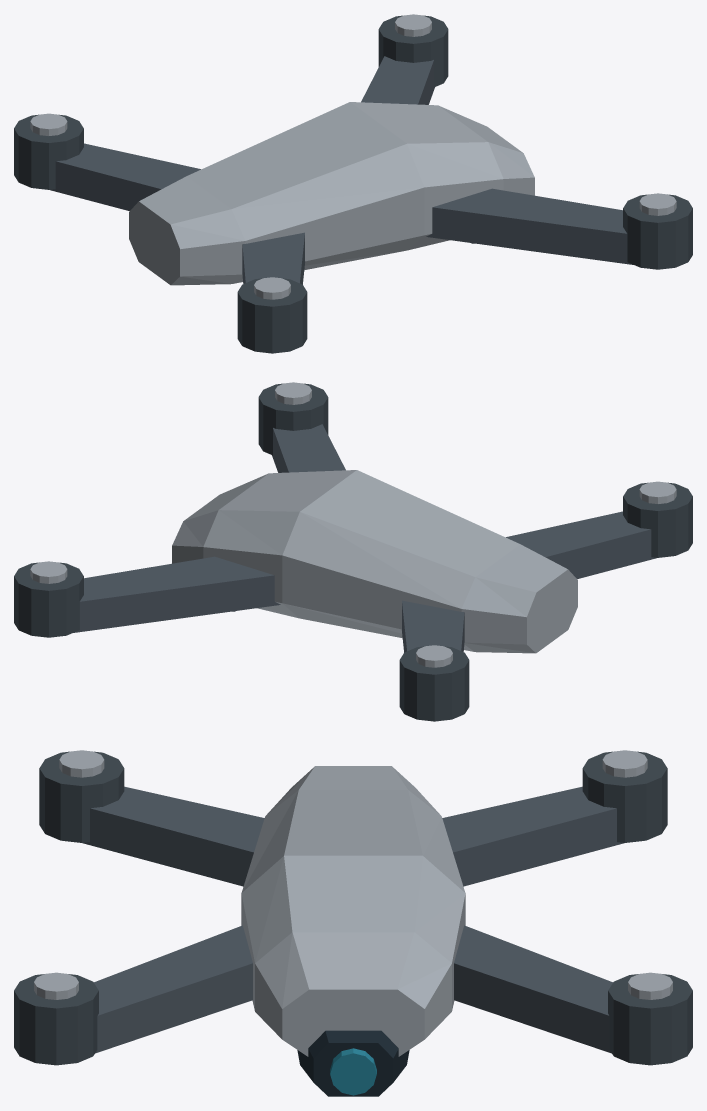
File: mavic_style.dae
3 views of the same model, one above another, from view 1: azimuth 30°, elevation 25°; view 2: azimuth 150°, elevation 25°; view 3: azimuth 270°, elevation 25° (orthographic). The views are drawn at different scales.
Visible parts, largest first — view 1: drone-shell-node, drone-arms-node, drone-motor-node; view 2: drone-shell-node, drone-arms-node, drone-motor-node; view 3: drone-shell-node, drone-arms-node, drone-motor-node, drone-camera-node, drone-lens-node.
Boxes of the visible parts, x1,y1,x2,y2 form: drone-shell-node: [30, 14, 676, 299]; drone-arms-node: [50, 56, 633, 284]; drone-motor-node: [14, 15, 692, 353]; drone-shell-node: [30, 382, 676, 667]; drone-arms-node: [73, 424, 656, 652]; drone-motor-node: [14, 383, 692, 721]; drone-shell-node: [34, 750, 672, 1056]; drone-arms-node: [82, 786, 624, 1053]; drone-motor-node: [14, 751, 692, 1065]; drone-camera-node: [297, 1030, 409, 1096]; drone-lens-node: [330, 1048, 376, 1095].
Bounding box in the file's own units: 72 × 80 × 21.2.
